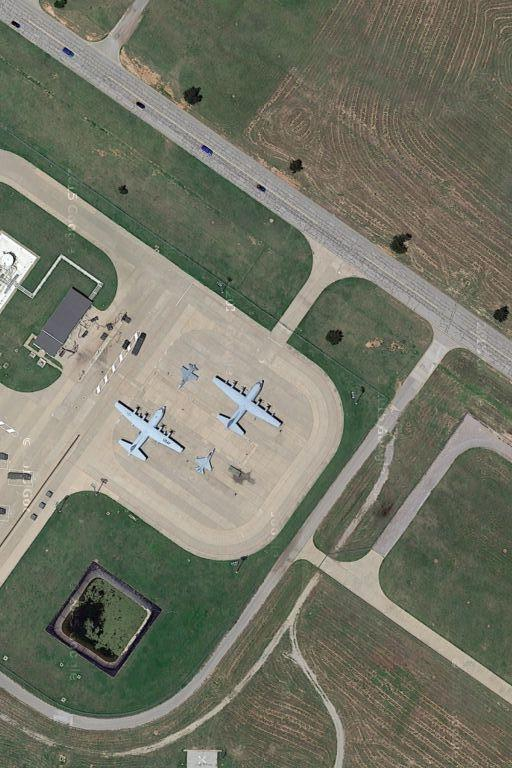C-130: (112, 396, 185, 466), (209, 372, 285, 433)
F-16: (191, 445, 220, 479), (175, 359, 202, 388)
